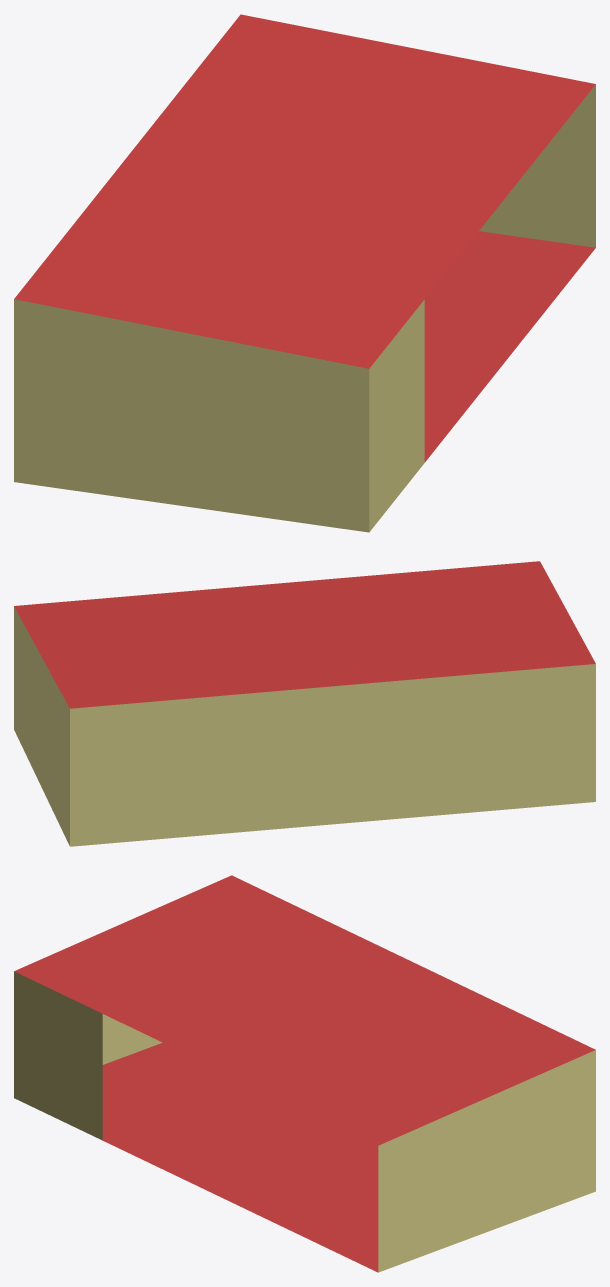
3 views of the same model, one above another, from view 1: azimuth 30°, elevation 25°; view 2: azimuth 150°, elevation 25°; view 3: azimuth 270°, elevation 25° (orthographic). The views are drawn at different scales.
Size of the model in its own units: 29.9 by 28.76 by 7.73.
